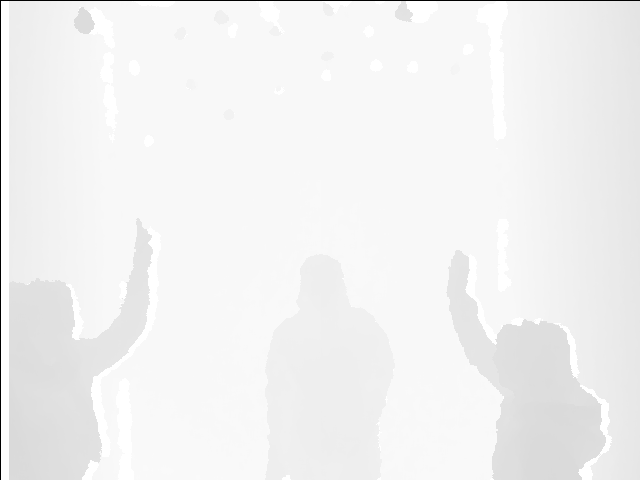hand: (448, 249, 475, 296), (132, 218, 155, 264)
